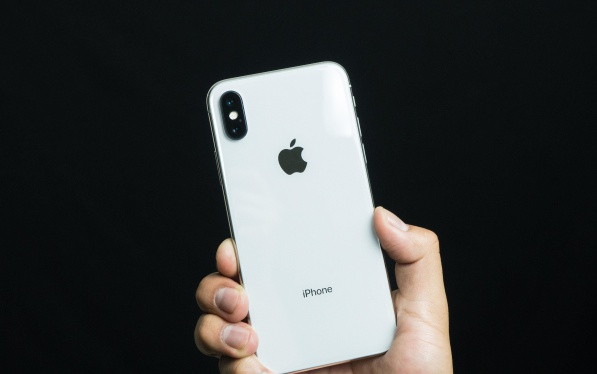apple: (277, 136, 318, 183)
